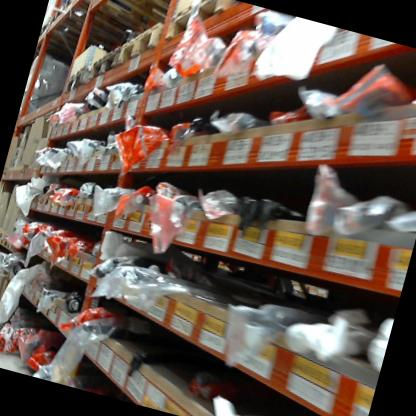pallet: (109, 6, 203, 93), (83, 40, 180, 120), (162, 0, 256, 57), (44, 4, 132, 59), (87, 0, 186, 41), (62, 62, 133, 115), (60, 0, 135, 36), (38, 17, 51, 44)
